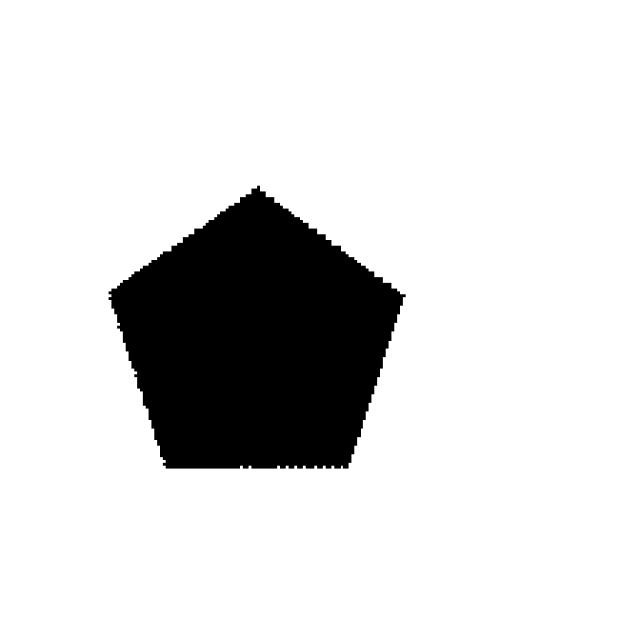Pentagon: (94, 167, 433, 550)
